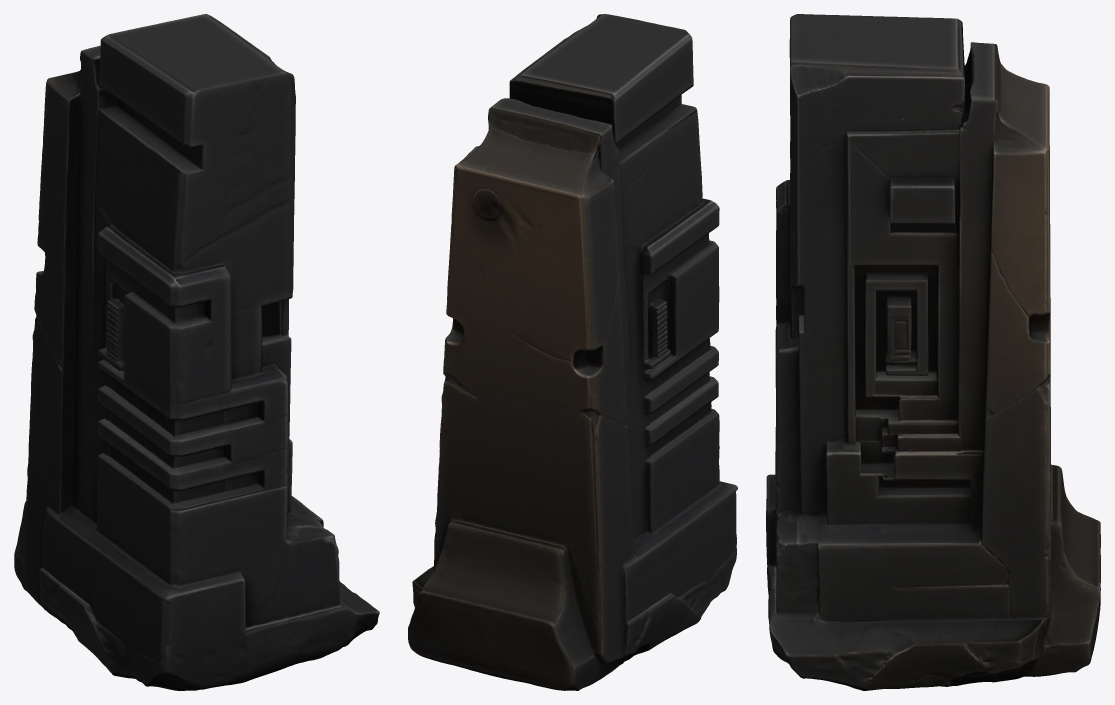
Rendered from black-layered-prism.optimized.glb.
3 views of the same model, side by side, from view 1: azimuth 30°, elevation 25°; view 2: azimuth 150°, elevation 25°; view 3: azimuth 270°, elevation 25° (orthographic). The views are drawn at different scales.
Visible parts, largest first — view 1: tripo_node_ca436e6b-2660-4dc2-8cc0-4fe9612d678f; view 2: tripo_node_ca436e6b-2660-4dc2-8cc0-4fe9612d678f; view 3: tripo_node_ca436e6b-2660-4dc2-8cc0-4fe9612d678f.
Boxes of the visible parts, x1,y1,x2,y2 form: tripo_node_ca436e6b-2660-4dc2-8cc0-4fe9612d678f: [14, 14, 379, 690]; tripo_node_ca436e6b-2660-4dc2-8cc0-4fe9612d678f: [408, 14, 737, 690]; tripo_node_ca436e6b-2660-4dc2-8cc0-4fe9612d678f: [766, 14, 1100, 690].
Bounding box in the file's own units: 0.4034 × 1 × 0.5129.
1 material, 1 textured.
